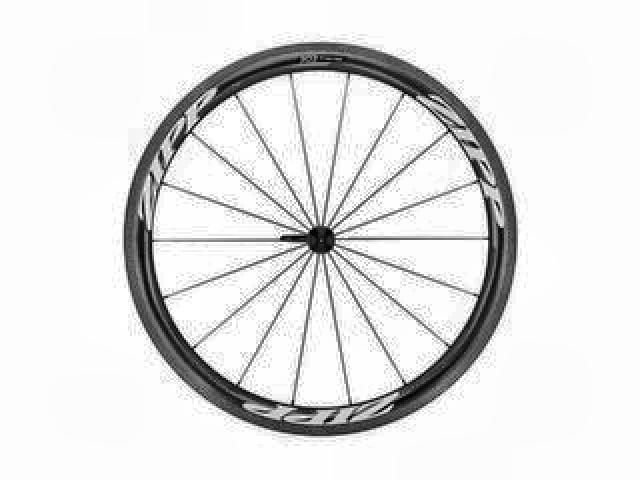wheel: (120, 38, 523, 440)
